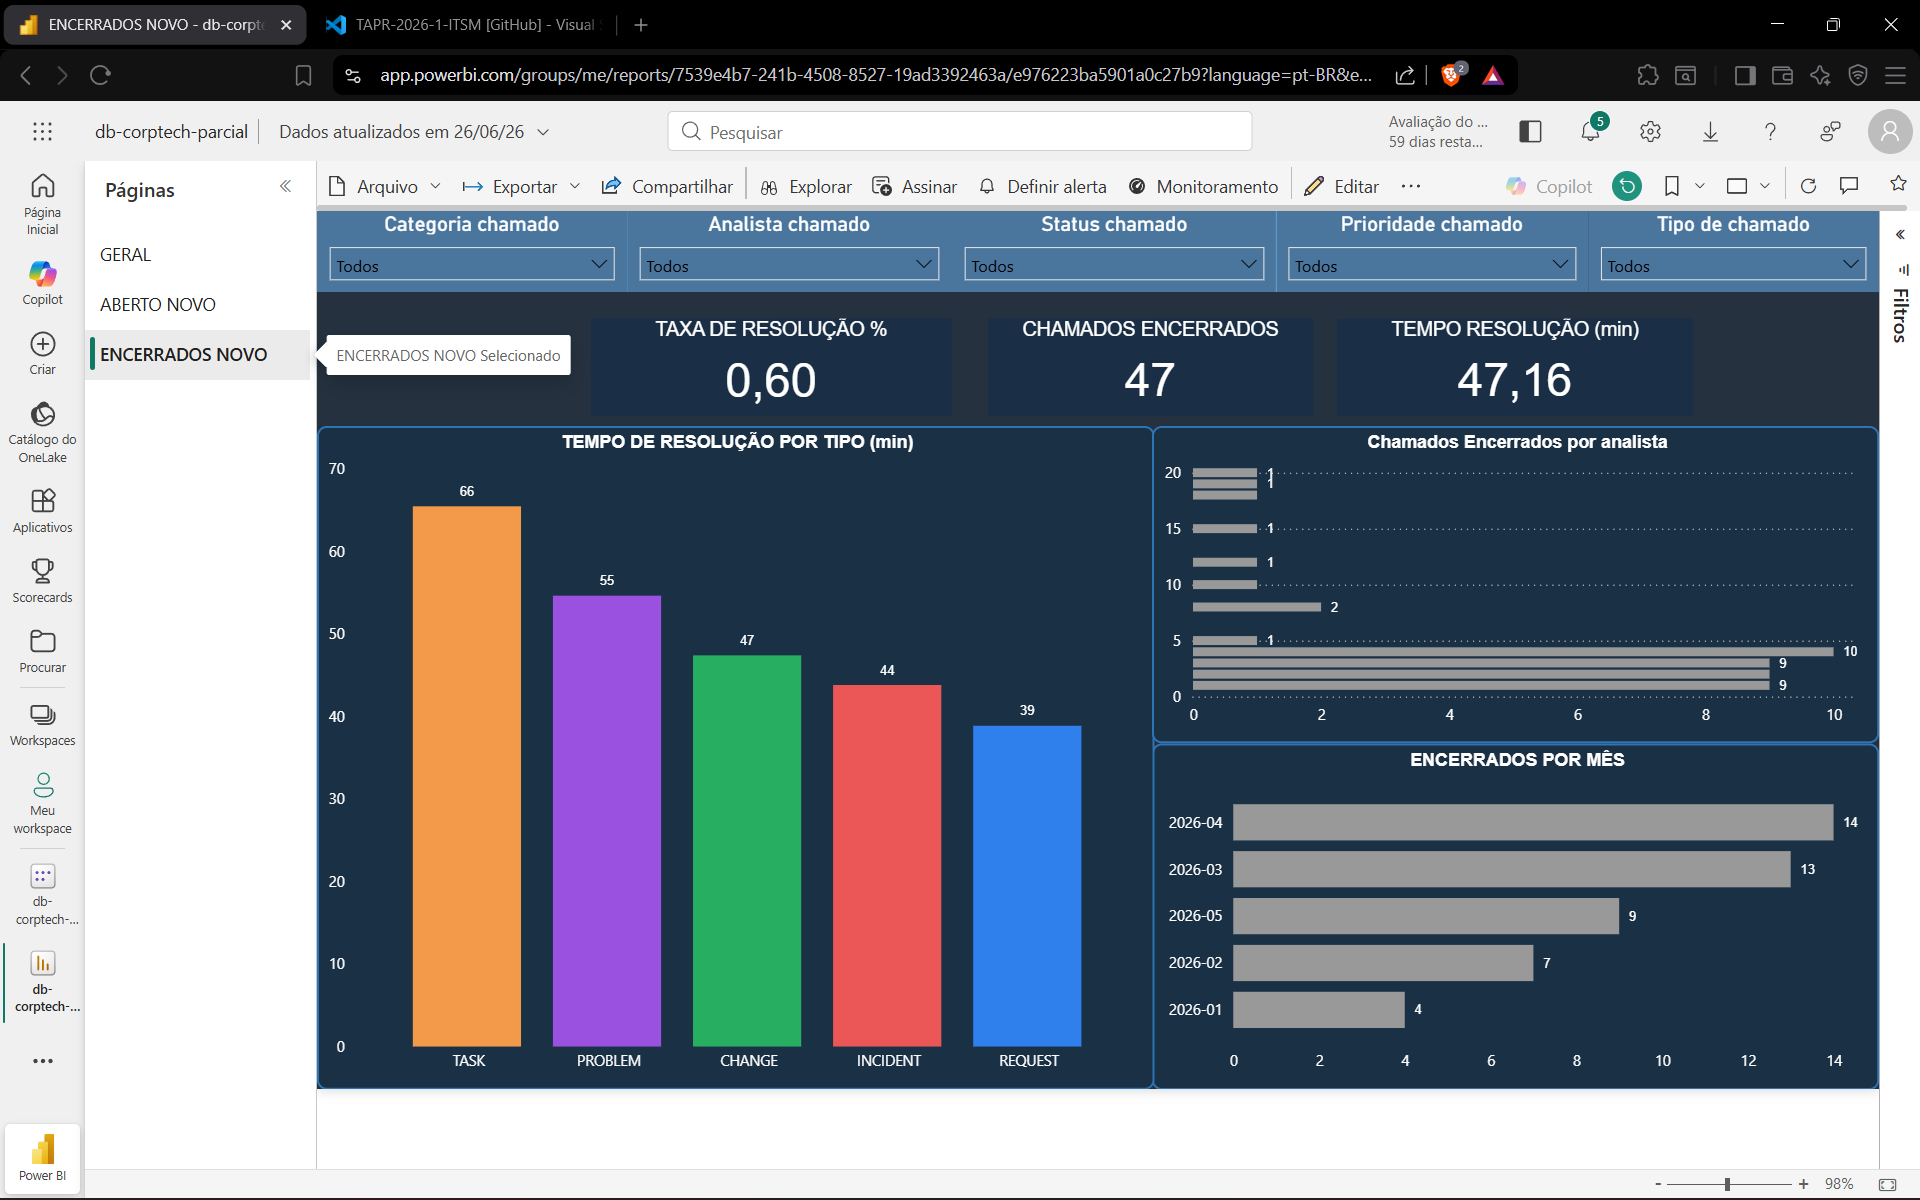

What the dashboard file says about the page in this screenshot:
{"tool":"powerbi","page":{"name":"ENCERRADOS NOVO","canvas":[1280,720],"ordinal":2},"visuals":[{"type":"card","title":"TAXA DE RESOLUÇÃO %","fields":{"Values":["chamado.Taxa de Resolução (%)"]},"box":[224,88,296,80],"z":0},{"type":"card","title":"CHAMADOS ENCERRADOS","fields":{"Values":["chamado.Chamados Encerrados"]},"box":[550,88,266,80],"z":1000},{"type":"card","title":"TEMPO RESOLUÇÃO (min)","fields":{"Values":["chamado.Tempo Resolução (min)"]},"box":[836,88,292,80],"z":2000},{"type":"clusteredBarChart","title":"ENCERRADOS POR MÊS","fields":{"Category":["chamado.AnoMes_Num"],"Y":["chamado.Chamados Encerrados"]},"box":[684,436,596,284],"z":3000},{"type":"clusteredColumnChart","title":"TEMPO DE RESOLUÇÃO POR TIPO (min)","fields":{"Category":["chamado.ds_tipo_chamado"],"Y":["chamado.Tempo Resolução (min)"]},"box":[0,176,686,544],"z":4000},{"type":"clusteredBarChart","title":"Chamados Encerrados por analista","fields":{"Category":["chamado.id_analista_atual"],"Y":["chamado.Chamados Encerrados"]},"box":[684,176,596,260],"z":5000},{"type":"slicer","title":"Categoria chamado","fields":{"Values":["corptech categoria.nm_categoria"]},"box":[0,0,254,66],"z":6000},{"type":"slicer","title":"Analista chamado","fields":{"Values":["corptech analista.nm_analista"]},"box":[254,0,266,66],"z":7000},{"type":"slicer","title":"Status chamado","fields":{"Values":["chamado.ds_status_chamado"]},"box":[520,0,266,66],"z":8000},{"type":"slicer","title":"Prioridade chamado","fields":{"Values":["chamado.ds_prioridade"]},"box":[786,0,256,66],"z":9000},{"type":"slicer","title":"Tipo de chamado","fields":{"Values":["chamado.ds_tipo_chamado"]},"box":[1042,0,238,66],"z":10000}]}

Visuals, with their boxes on the page's 1280x720 design canvas (x1, y1, x2, y2). These are canvas units, not pixel positions in the 1920x1200 screenshot, which may show the page scaled, cropped or inside an application window:
"TAXA DE RESOLUÇÃO %" card: box(224, 88, 520, 168)
"CHAMADOS ENCERRADOS" card: box(550, 88, 816, 168)
"TEMPO RESOLUÇÃO (min)" card: box(836, 88, 1128, 168)
"ENCERRADOS POR MÊS" clusteredBarChart: box(684, 436, 1280, 720)
"TEMPO DE RESOLUÇÃO POR TIPO (min)" clusteredColumnChart: box(0, 176, 686, 720)
"Chamados Encerrados por analista" clusteredBarChart: box(684, 176, 1280, 436)
"Categoria chamado" slicer: box(0, 0, 254, 66)
"Analista chamado" slicer: box(254, 0, 520, 66)
"Status chamado" slicer: box(520, 0, 786, 66)
"Prioridade chamado" slicer: box(786, 0, 1042, 66)
"Tipo de chamado" slicer: box(1042, 0, 1280, 66)
